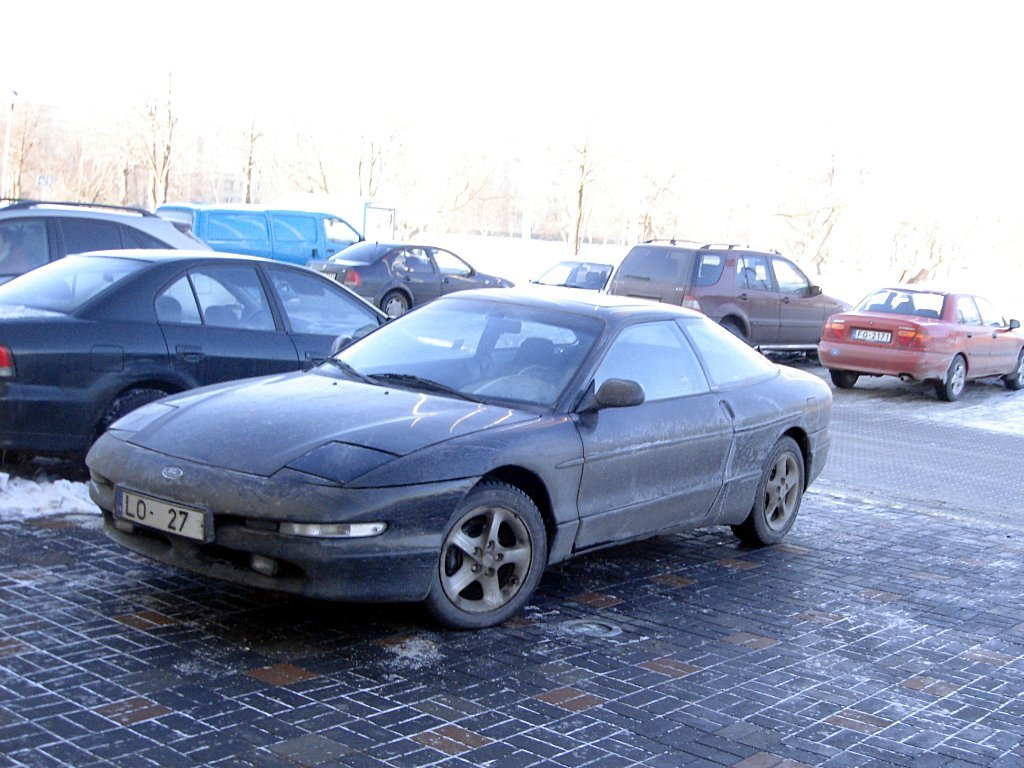Car: (0, 192, 1022, 632)
